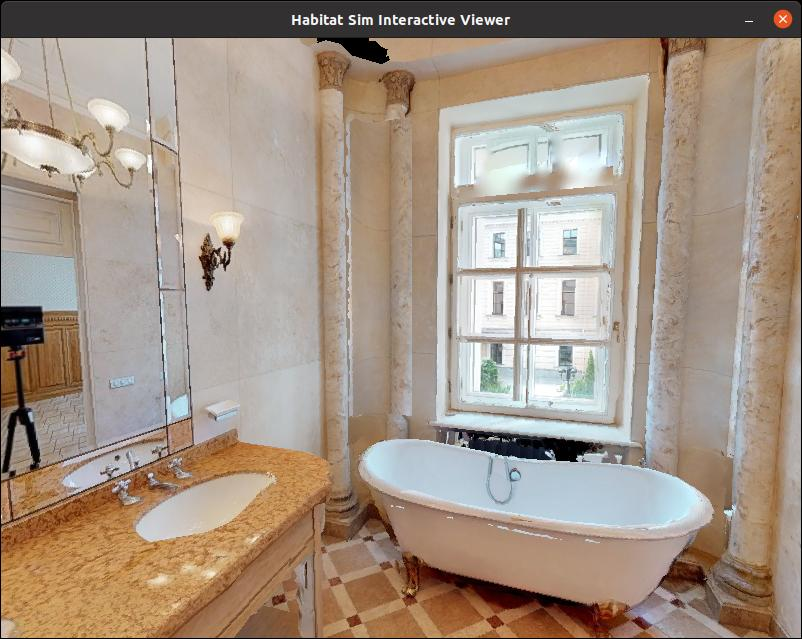sink: (95, 435, 309, 574)
